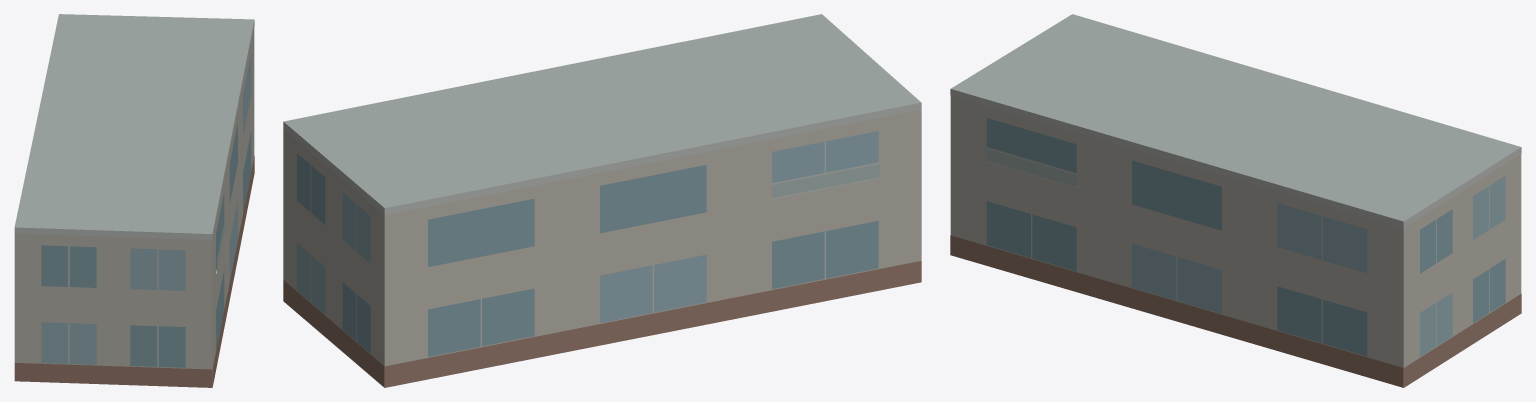
The model's file is survey-upis-32911645.glb.
3 renders of one model, left to right at view 1: azimuth 30°, elevation 25°; view 2: azimuth 150°, elevation 25°; view 3: azimuth 270°, elevation 25°, orthographic. The views are drawn at different scales.
Parts seen in each view (by area): view 1: survey-upis-32911645.tmp; view 2: survey-upis-32911645.tmp; view 3: survey-upis-32911645.tmp.
Boxes of the visible parts, x1,y1,x2,y2 form: survey-upis-32911645.tmp: [14, 14, 254, 387]; survey-upis-32911645.tmp: [283, 14, 921, 387]; survey-upis-32911645.tmp: [950, 14, 1521, 387].
Size of the model in its own units: 16.33 by 6.1 by 18.98.
